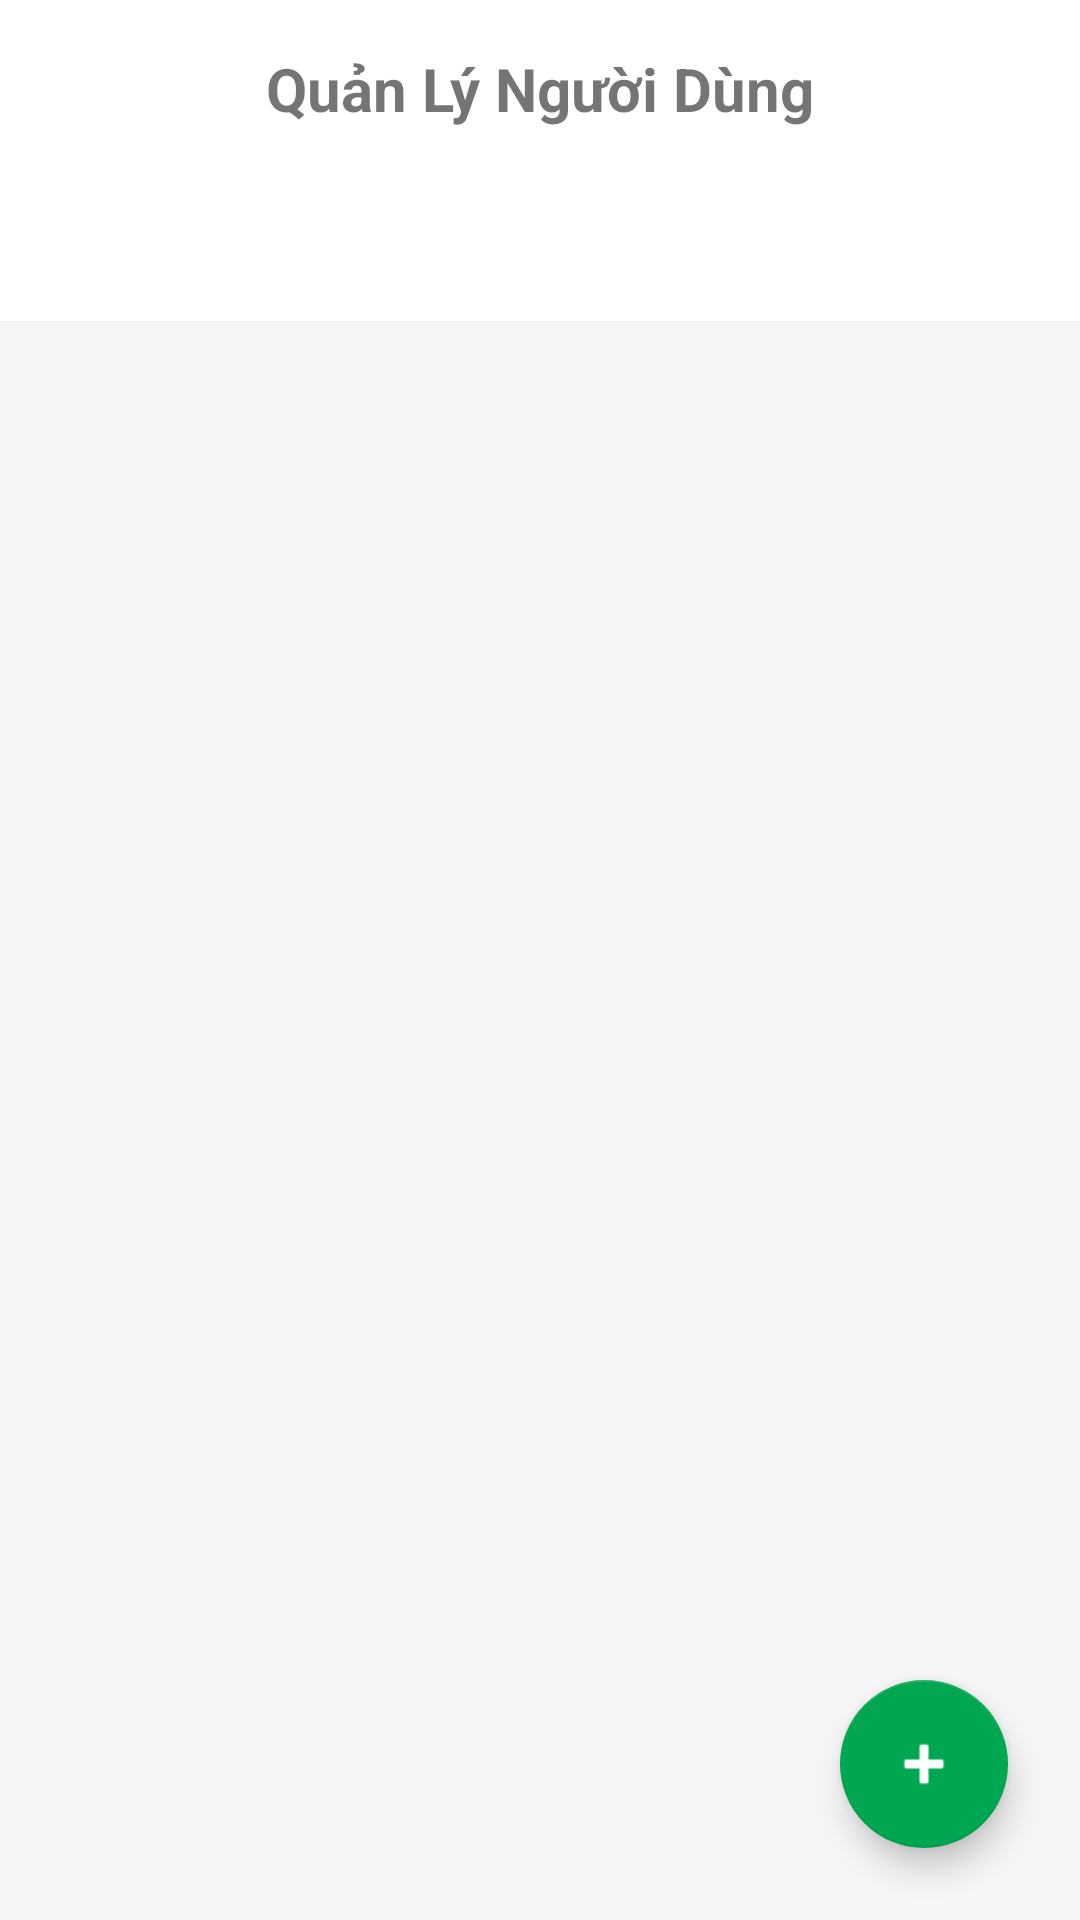

Icons on this 1080x1920 Android screen, each with the point to tap as point (x, y):
Thêm người dùng mới: point (924, 1764)
